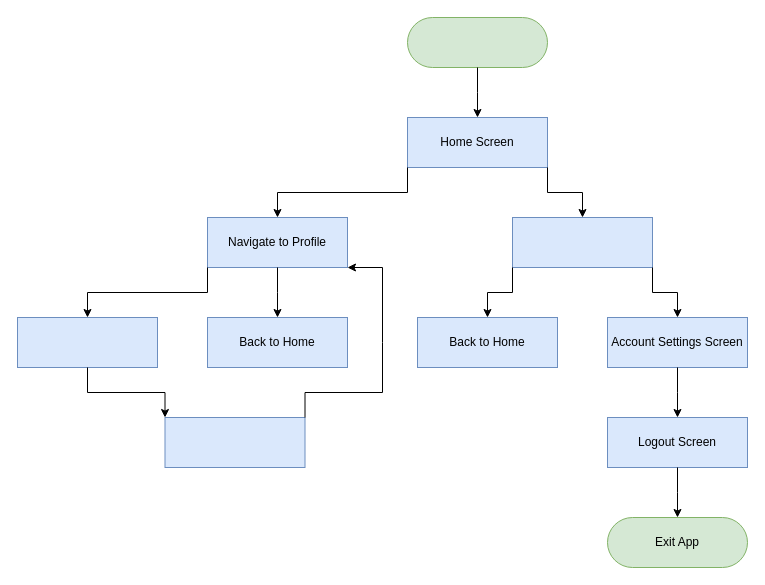
The diagram is 765 pixels wide and 585 high, and some of its shapes have lost their labels. The centre of each missing label's shape, as x and y in pixels:
App Launch: (477,42)
Edit Profile Screen: (87,342)
Navigate to Settings: (582,242)
Save Changes: (234,442)
